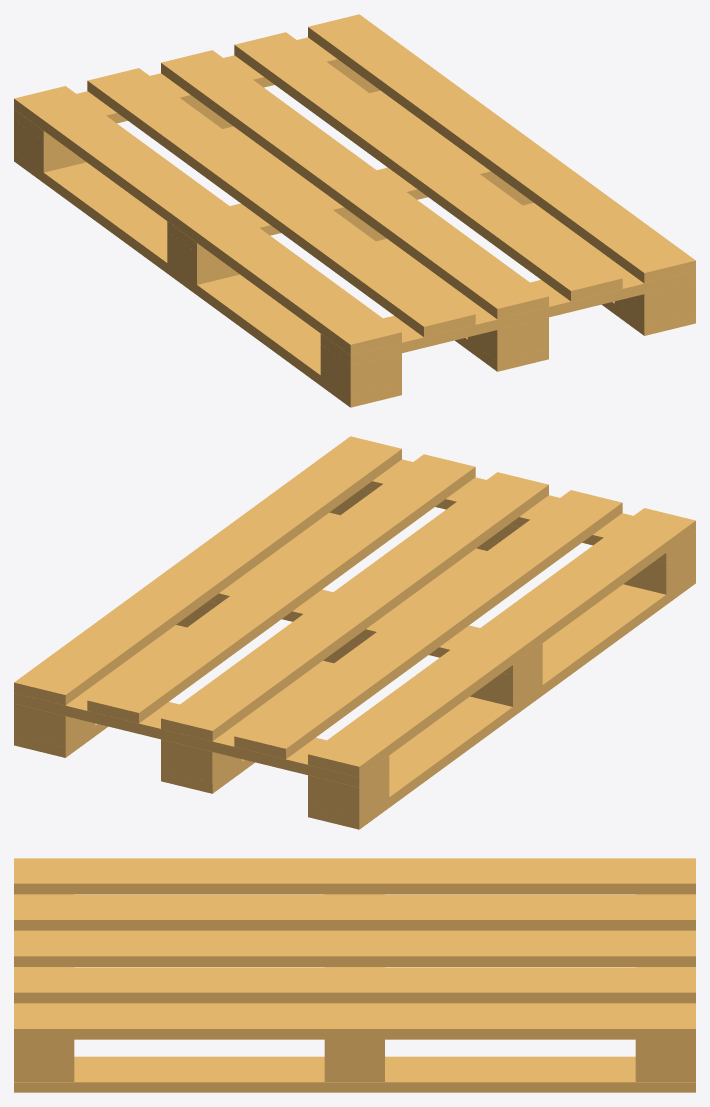
File: pallet.glb
3 renders of one model, top to bottom at view 1: azimuth 30°, elevation 25°; view 2: azimuth 150°, elevation 25°; view 3: azimuth 270°, elevation 25°, orthographic.
Parts seen in each view (by area): view 1: Cube.003, Cube.001, Cube, Cube.002, Cube.004, Cube.019, Cube.007, Cube.018, Cube.017, Cube.015, Cube.005, Cube.006 (+4 smaller); view 2: Cube.003, Cube.001, Cube, Cube.004, Cube.002, Cube.019, Cube.006, Cube.018, Cube.017, Cube.016, Cube.005, Cube.007 (+4 smaller); view 3: Cube.001, Cube.002, Cube.003, Cube.004, Cube, Cube.017, Cube.008, Cube.009, Cube.010, Cube.005, Cube.006, Cube.007 (+2 smaller).
Boxes of the visible parts, bbox=[...] form: Cube.003: bbox=[234, 32, 622, 301]; Cube.001: bbox=[87, 68, 475, 337]; Cube: bbox=[161, 50, 548, 319]; Cube.002: bbox=[14, 86, 401, 355]; Cube.004: bbox=[308, 14, 695, 283]; Cube.019: bbox=[14, 151, 401, 407]; Cube.007: bbox=[320, 262, 695, 365]; Cube.018: bbox=[223, 126, 548, 371]; Cube.017: bbox=[369, 90, 695, 335]; Cube.015: bbox=[320, 344, 401, 397]; Cube.005: bbox=[167, 149, 501, 253]; Cube.006: bbox=[14, 37, 347, 140]; Cube.003: bbox=[87, 454, 475, 723]; Cube.001: bbox=[234, 490, 622, 759]; Cube: bbox=[161, 472, 548, 741]; Cube.004: bbox=[14, 436, 401, 705]; Cube.002: bbox=[308, 508, 695, 777]; Cube.019: bbox=[308, 573, 695, 829]; Cube.006: bbox=[14, 684, 389, 787]; Cube.018: bbox=[161, 548, 486, 793]; Cube.017: bbox=[14, 512, 339, 757]; Cube.016: bbox=[308, 766, 389, 819]; Cube.005: bbox=[208, 571, 542, 675]; Cube.007: bbox=[362, 459, 695, 562]; Cube.001: bbox=[14, 894, 695, 930]; Cube.002: bbox=[14, 858, 695, 894]; Cube.003: bbox=[14, 967, 695, 1003]; Cube.004: bbox=[14, 1003, 695, 1039]; Cube: bbox=[14, 931, 695, 966]; Cube.017: bbox=[14, 1056, 695, 1092]; Cube.008: bbox=[324, 1050, 384, 1081]; Cube.009: bbox=[14, 1050, 74, 1081]; Cube.010: bbox=[635, 1050, 695, 1081]; Cube.005: bbox=[324, 894, 384, 1050]; Cube.006: bbox=[635, 894, 695, 1050]; Cube.007: bbox=[14, 894, 74, 1050].
Size of the model in its own units: 4.23 by 0.736 by 7.14.
